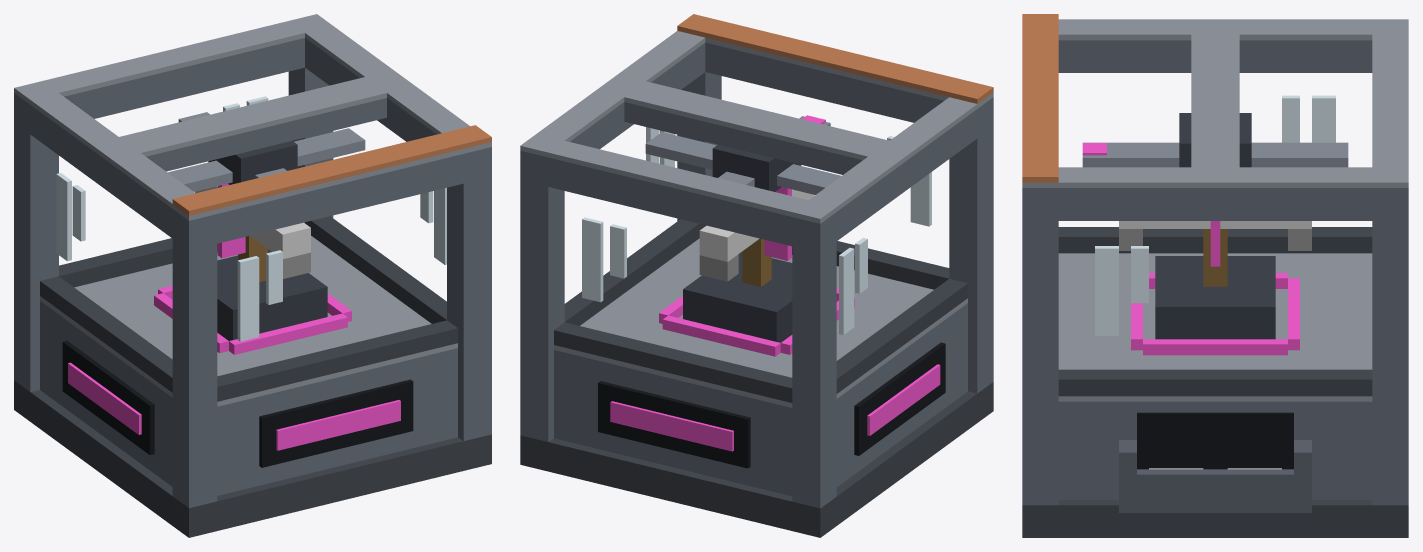
File: disintegrator.glb
3 views of the same model, side by side, from view 1: azimuth 30°, elevation 25°; view 2: azimuth 150°, elevation 25°; view 3: azimuth 270°, elevation 25° (orthographic). The views are drawn at different scales.
Visible parts, largest first — view 1: body.021, tier.012, cutter, half_a; view 2: body.021, tier.012, cutter, half_b; view 3: body.021, cutter, tier.012, half_b, half_a, beam.
Part boxes in pixels (x1,y1,x2,y2): body.021: (14, 14, 491, 537); tier.012: (172, 125, 491, 215); cutter: (167, 112, 365, 191); half_a: (250, 222, 310, 278); body.021: (520, 31, 993, 537); tier.012: (677, 14, 993, 103); cutter: (645, 115, 841, 194); half_b: (699, 225, 759, 281); body.021: (1022, 19, 1408, 537); cutter: (1082, 113, 1348, 167); tier.012: (1022, 14, 1058, 182); half_b: (1220, 221, 1311, 250); half_a: (1119, 221, 1210, 250); beam: (1210, 221, 1220, 266).
Bounding box in the file's own units: 1.05 × 1.03 × 1.
